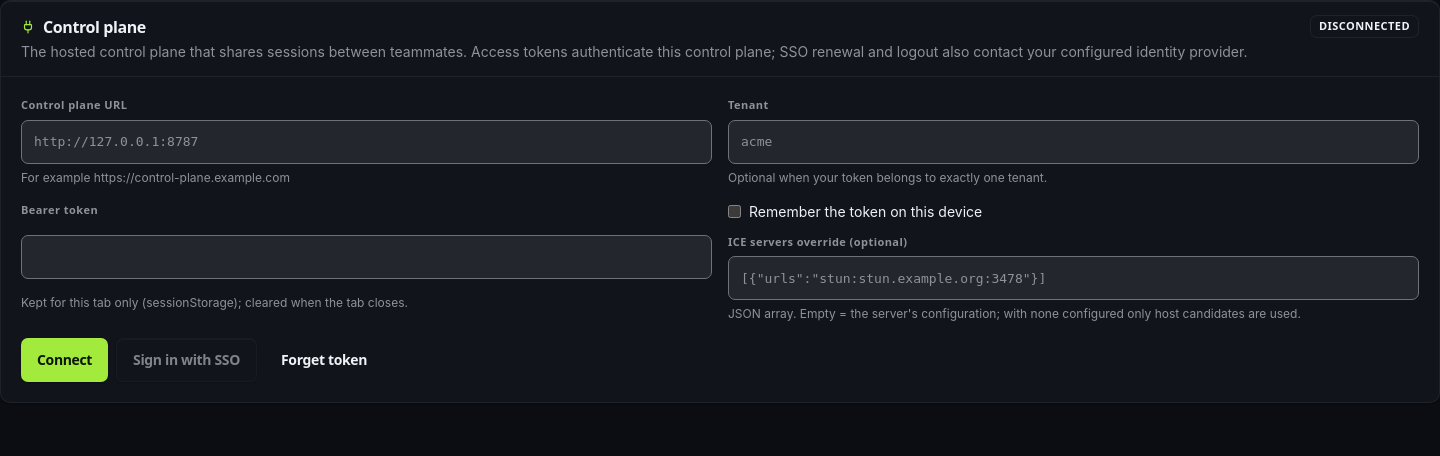
Test: CollaborationScreen › validates the URL before making any request
Type "ftp://nope" into the field with test id "collab-url".
click(366, 142); type("ftp://nope")  # box [21,120,712,164]
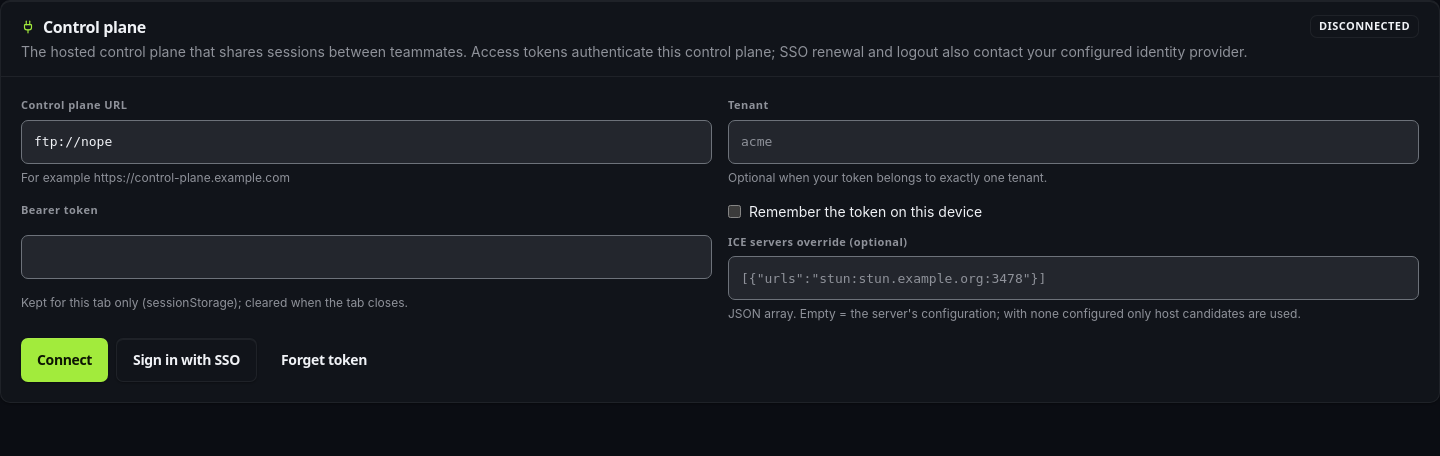
Type "tok-alice" into the password field with test id "collab-token".
click(366, 257); type("tok-alice")  # box [21,235,712,279]
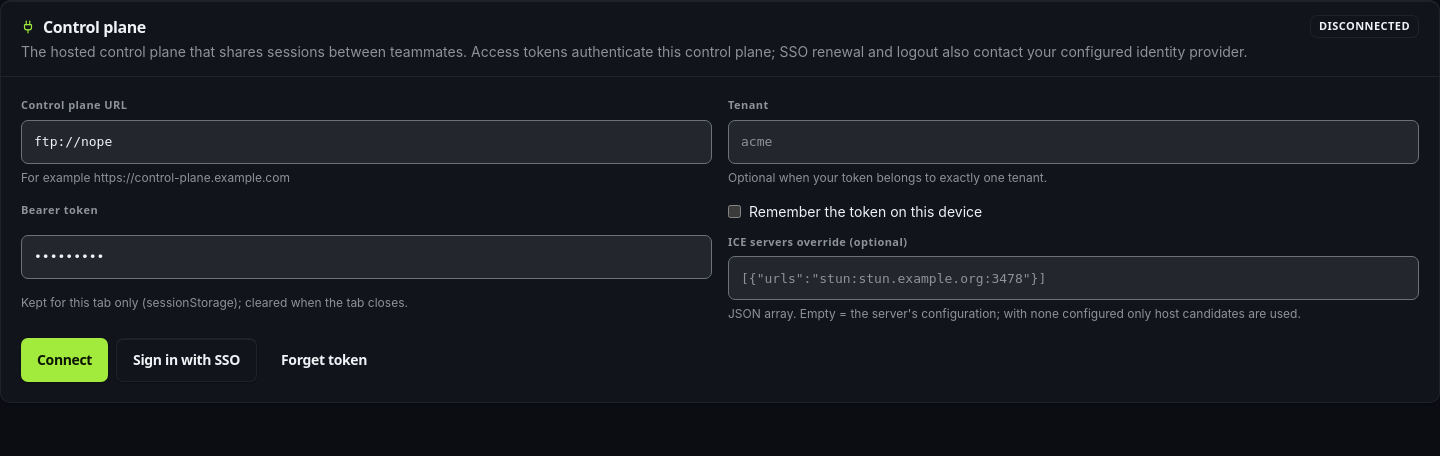
Click the button with test id "collab-connect".
click(65, 360)  # box [21,338,108,382]
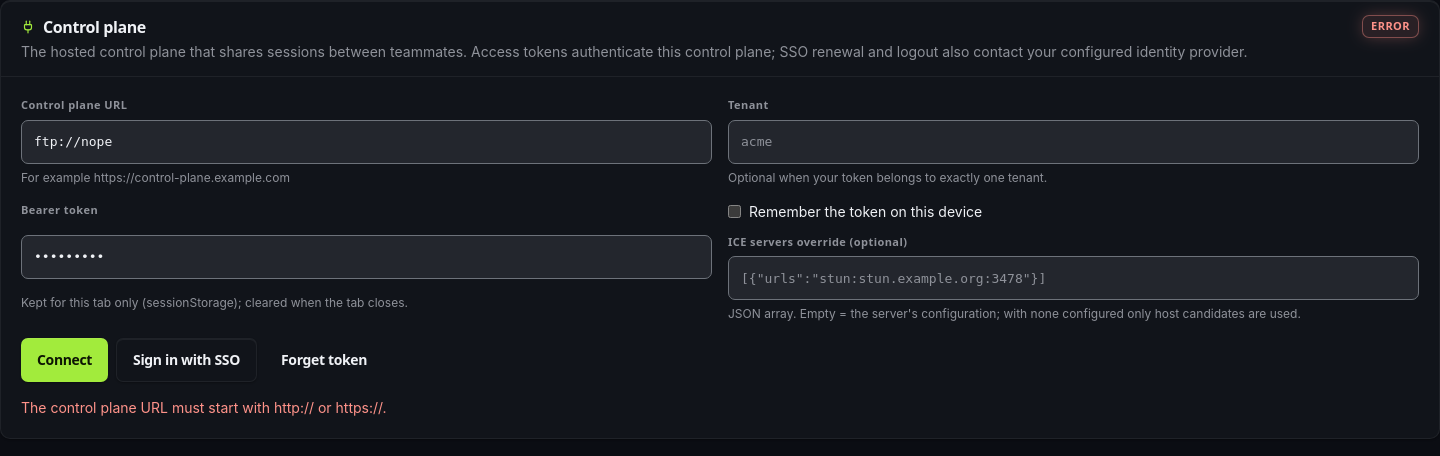
Expected: the message shows "http://", [21,399,387,416]
